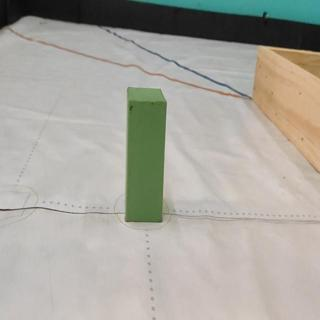greenbox: (125, 86, 168, 222)
